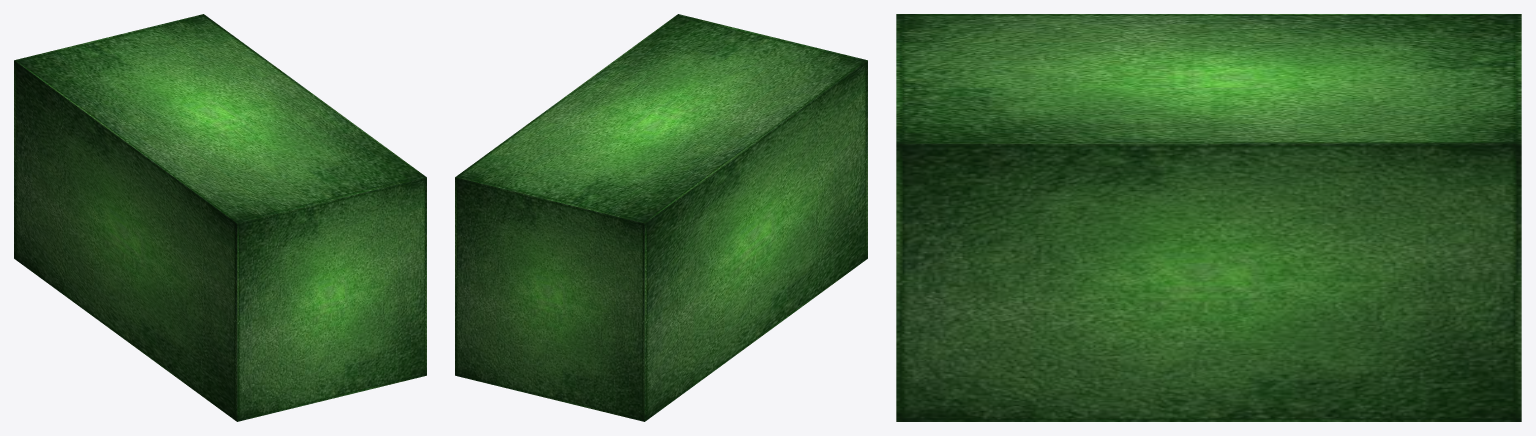
File: TheFinal.FBX
The picture shows the model from 3 angles, left to right: view 1: azimuth 30°, elevation 25°; view 2: azimuth 150°, elevation 25°; view 3: azimuth 270°, elevation 25°; orthographic projection. The views are drawn at different scales.
Parts seen in each view (by area): view 1: Box001; view 2: Box001; view 3: Box001.
Part boxes in pixels (x1=…): Box001: x1=14, y1=14, x2=426, y2=421; Box001: x1=455, y1=14, x2=867, y2=421; Box001: x1=896, y1=14, x2=1521, y2=421.
Bounding box in the file's own units: 1350 × 1350 × 2750.
58 materials, 58 textured.
